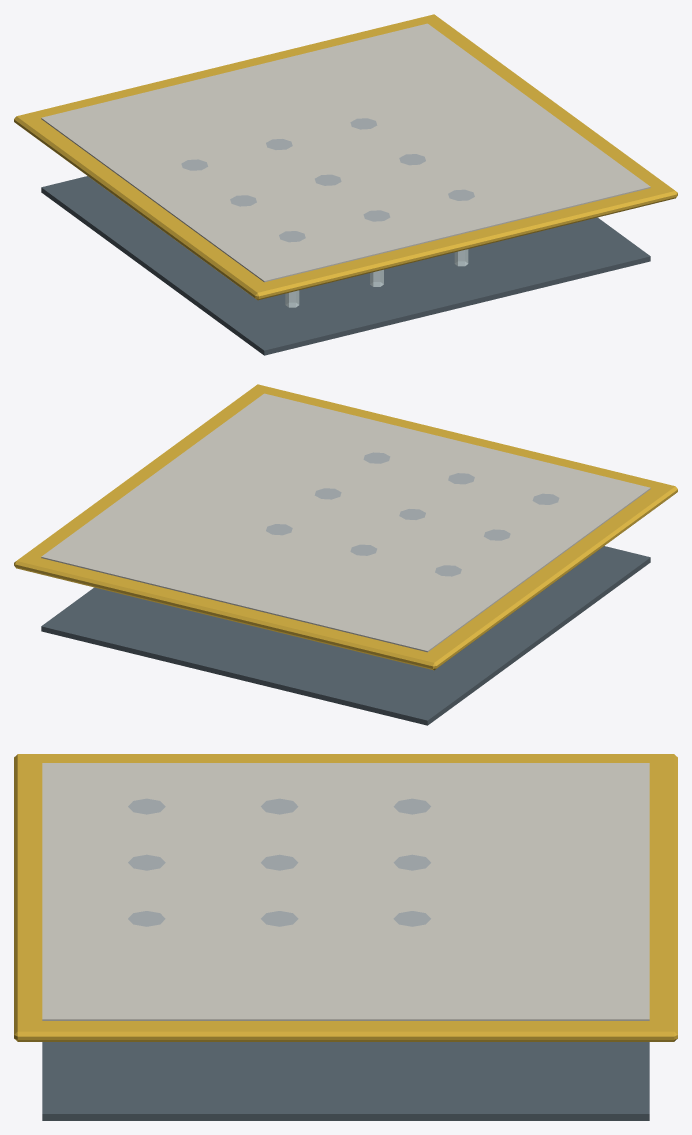
Rendered from trap.fbx.
The picture shows the model from 3 angles, top to bottom: view 1: azimuth 30°, elevation 25°; view 2: azimuth 150°, elevation 25°; view 3: azimuth 270°, elevation 25°; orthographic projection. The views are drawn at different scales.
Parts seen in each view (by area): view 1: trap, Spikes; view 2: trap, Spikes; view 3: trap, Spikes.
Part boxes in pixels (x1,y1,x2,y2): trap: (14,14,677,300); Spikes: (41,176,650,355); trap: (14,384,677,670); Spikes: (41,546,650,725); trap: (14,754,677,1041); Spikes: (42,1042,649,1120).
Bounding box in the file's own units: 3.5 × 0.592 × 3.5.
